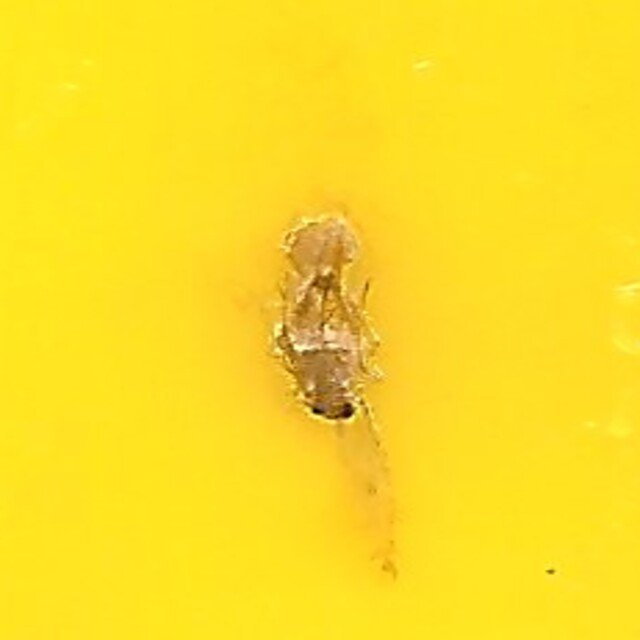Hymenoptera: (277, 212, 363, 428)
